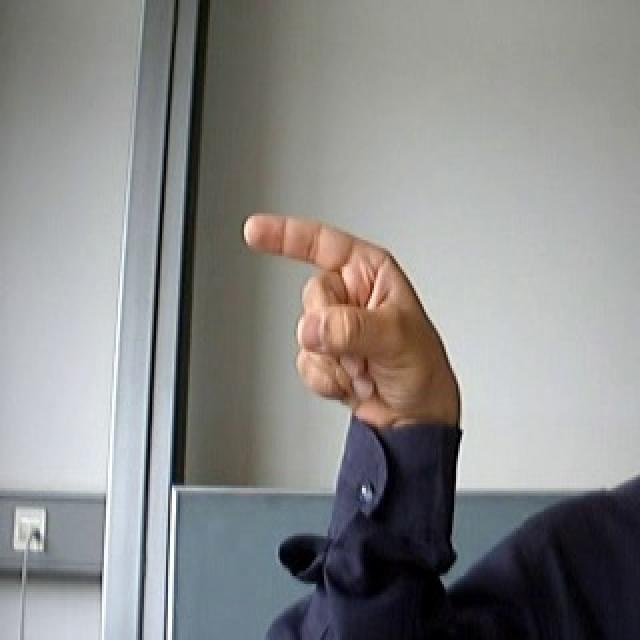P: (230, 179, 482, 469)
